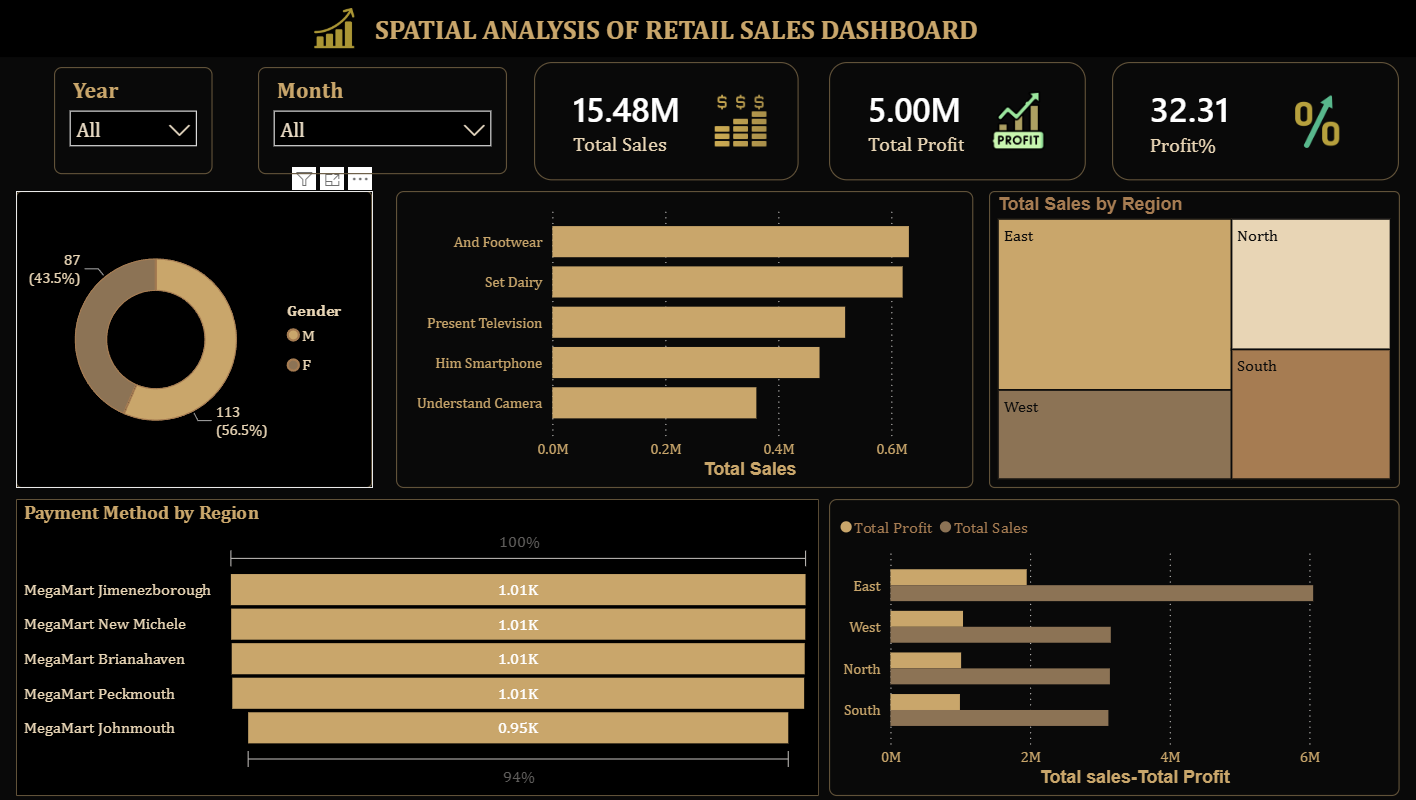

What the dashboard file says about the page in this screenshot:
{"tool":"powerbi","page":{"name":"Page 1","canvas":[1280,720],"ordinal":0},"visuals":[{"type":"cardVisual","fields":{"Data":["Transactions.Total Sales"]},"box":[481.9,56.6,237.2,105.8],"z":0},{"type":"cardVisual","fields":{"Data":["Transactions.Total Profit"]},"box":[745.8,56.6,229.7,105.8],"z":1000},{"type":"cardVisual","fields":{"Data":["Transactions.Profit Margin %"]},"box":[999,56.6,257.5,105.8],"z":2000},{"type":"textbox","box":[0,0,1280,52.1],"z":3000},{"type":"image","box":[284.1,8.2,37.5,35.6],"z":4000},{"type":"donutChart","title":"BY Gender","fields":{"Category":["Customers.Gender"],"Y":["CountNonNull(Customers.Gender)"]},"box":[18.2,172,319.5,266],"z":5000},{"type":"slicer","fields":{"Values":["Transactions.Date.Variation.Date Hierarchy.Year"]},"box":[52.1,61.2,141.6,95.9],"z":6000},{"type":"slicer","fields":{"Values":["Transactions.Date.Variation.Date Hierarchy.Month"]},"box":[234.8,61.2,222.9,95.9],"z":7000},{"type":"treemap","fields":{"Group":["Stores.Region"],"Values":["Transactions.Total Sales"]},"box":[888.9,172,367.5,266],"z":8000},{"type":"clusteredBarChart","title":"TotalSales and TotalProfit by Region","fields":{"Y":["Transactions.Total Profit","Transactions.Total Sales"],"Category":["Stores.Region"]},"box":[745.8,447.7,510.7,266],"z":9000},{"type":"funnel","title":"Payment Method by Region","fields":{"Category":["Stores.StoreName"],"Y":["CountNonNull(Transactions.PaymentMethod)"]},"box":[18.2,447.7,719.1,266],"z":10000},{"type":"barChart","fields":{"Category":["Products.ProductName"],"Y":["Transactions.Total Sales"]},"box":[357.9,172,517.1,266],"z":11000},{"type":"image","box":[640,82.3,53.4,53.4],"z":11001},{"type":"image","box":[888.9,82.3,53.4,53.4],"z":11002},{"type":"image","box":[1159.3,82.3,47,54.5],"z":11003}]}

Visuals, with their boxes in screenshot pixels (x1, y1, x2, y2), scaled from the page's 1280x720 canvas onto the 1416x800 screenshot:
cardVisual - Transactions.Total Sales: <bbox>533, 63, 796, 180</bbox>
cardVisual - Transactions.Total Profit: <bbox>825, 63, 1079, 180</bbox>
cardVisual - Transactions.Profit Margin %: <bbox>1105, 63, 1390, 180</bbox>
textbox: <bbox>0, 0, 1415, 58</bbox>
image: <bbox>314, 9, 356, 49</bbox>
"BY Gender" donutChart: <bbox>20, 191, 374, 487</bbox>
slicer - Transactions.Date.Variation.Date Hierarchy.Year: <bbox>58, 68, 214, 175</bbox>
slicer - Transactions.Date.Variation.Date Hierarchy.Month: <bbox>260, 68, 506, 175</bbox>
treemap - Stores.Region x Transactions.Total Sales: <bbox>983, 191, 1390, 487</bbox>
"TotalSales and TotalProfit by Region" clusteredBarChart: <bbox>825, 497, 1390, 793</bbox>
"Payment Method by Region" funnel: <bbox>20, 497, 816, 793</bbox>
barChart - Products.ProductName x Transactions.Total Sales: <bbox>396, 191, 968, 487</bbox>
image: <bbox>708, 91, 767, 151</bbox>
image: <bbox>983, 91, 1042, 151</bbox>
image: <bbox>1282, 91, 1334, 152</bbox>
